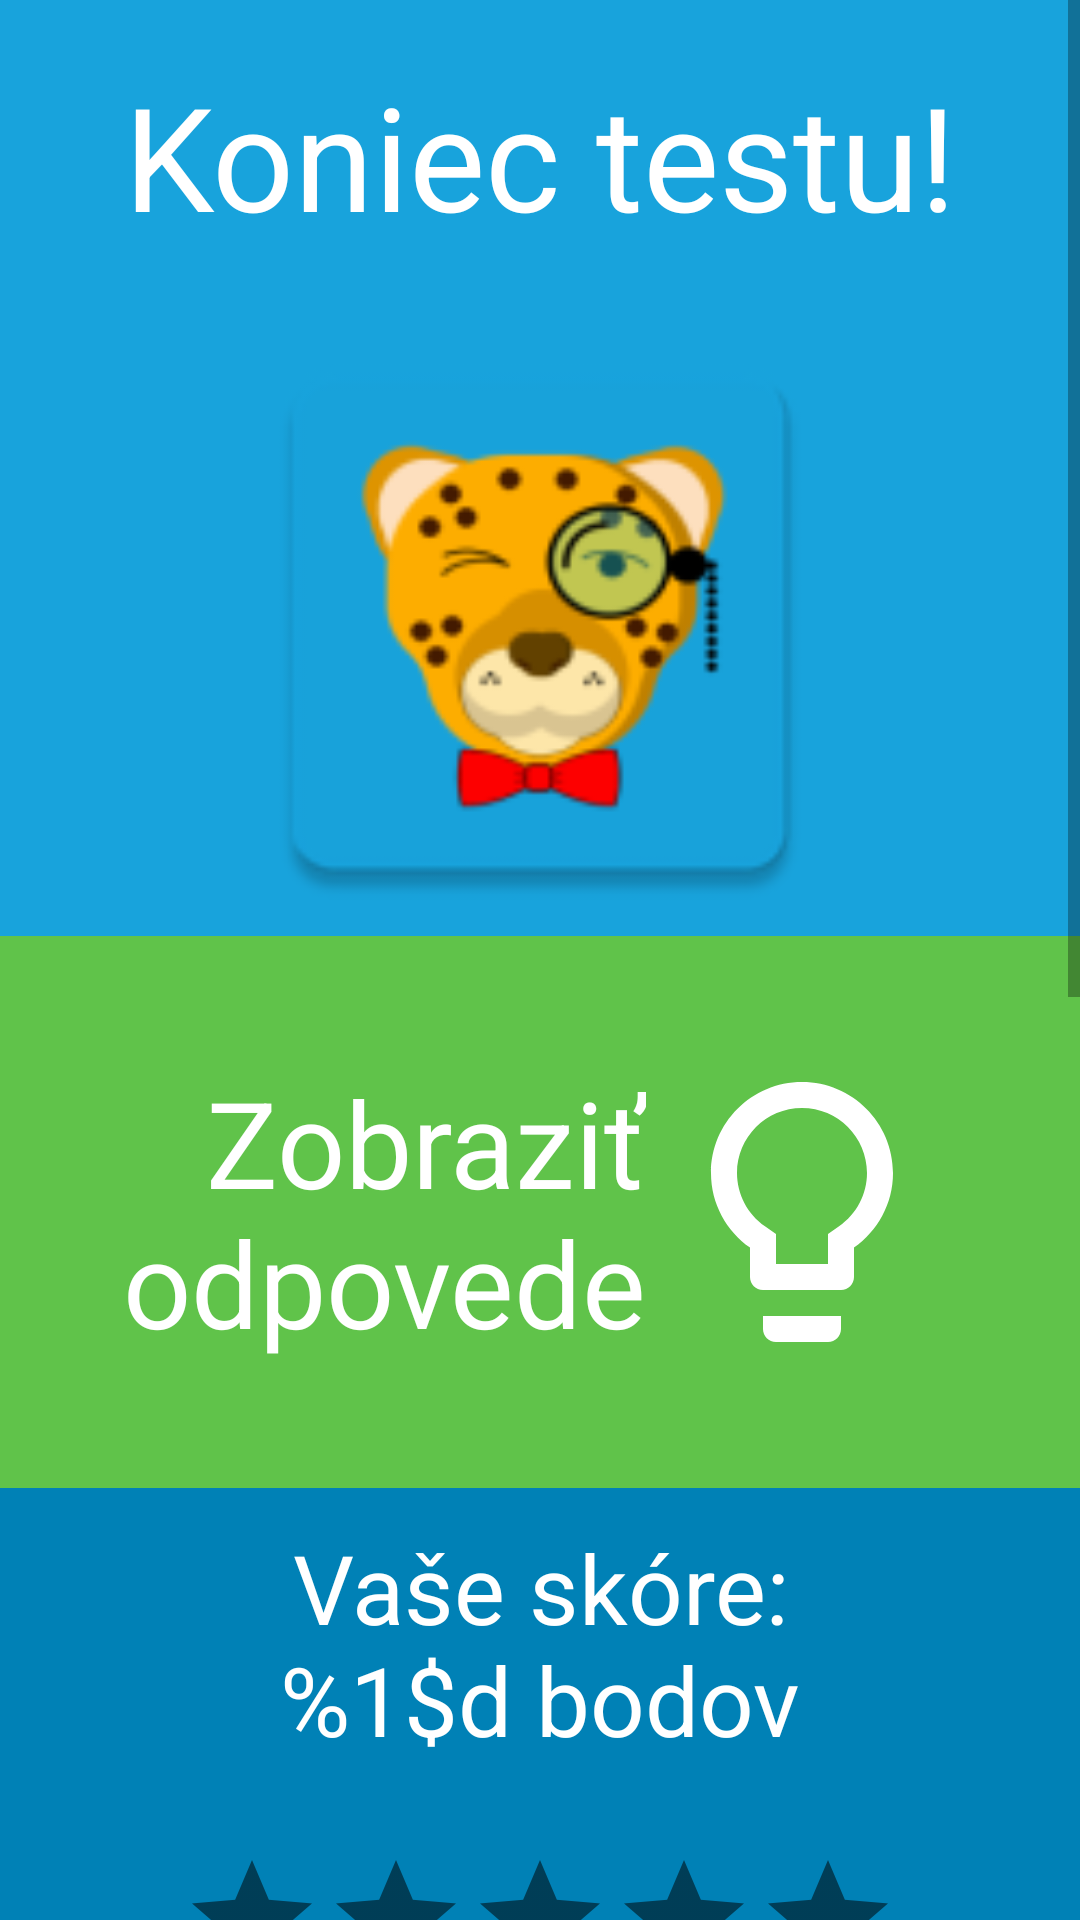

Where to tap for icons on this 1080px×1920px app screen, as (x=x, y=y):
lightbulb: (x=802, y=1212)
